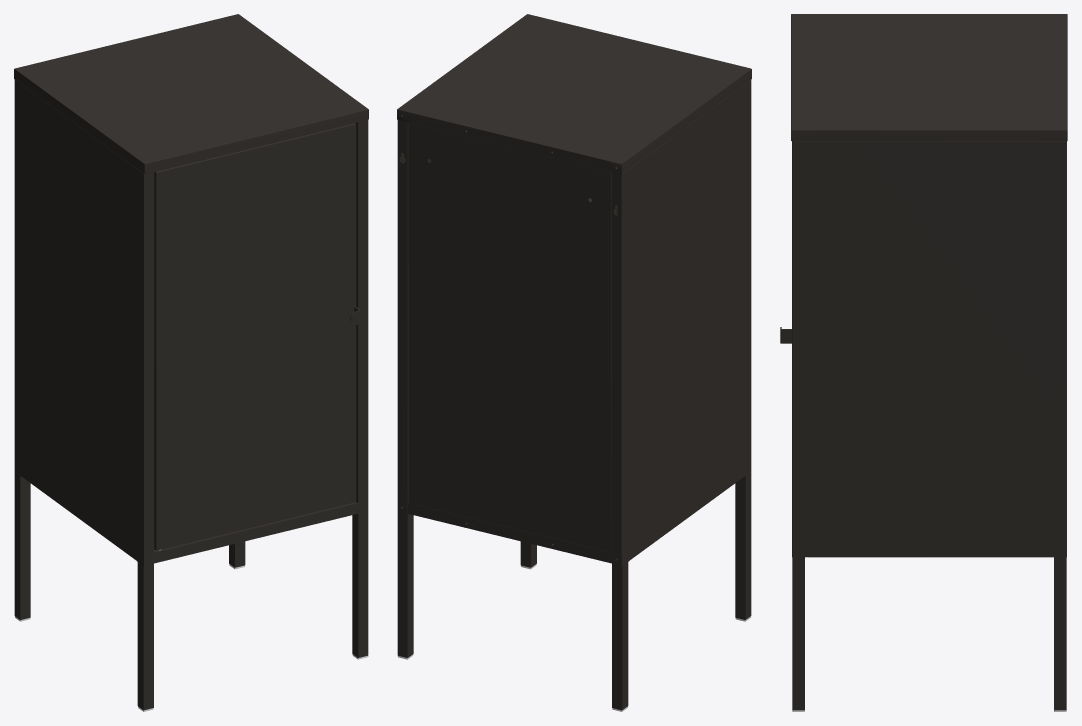
The model's file is 35 - LIXHULT Cabinet - metalanthracite 35x60 cm.glb.
The picture shows the model from 3 angles, left to right: view 1: azimuth 30°, elevation 25°; view 2: azimuth 150°, elevation 25°; view 3: azimuth 270°, elevation 25°; orthographic projection. The views are drawn at different scales.
Parts seen in each view (by area): view 1: Mesh_0; view 2: Mesh_0; view 3: Mesh_0.
Boxes of the visible parts, x1,y1,x2,y2 form: Mesh_0: [14, 14, 368, 711]; Mesh_0: [397, 14, 751, 711]; Mesh_0: [780, 14, 1067, 711].
Size of the model in its own units: 0.3502 by 0.817 by 0.3659.
Materials: 1 (1 with a texture image).
